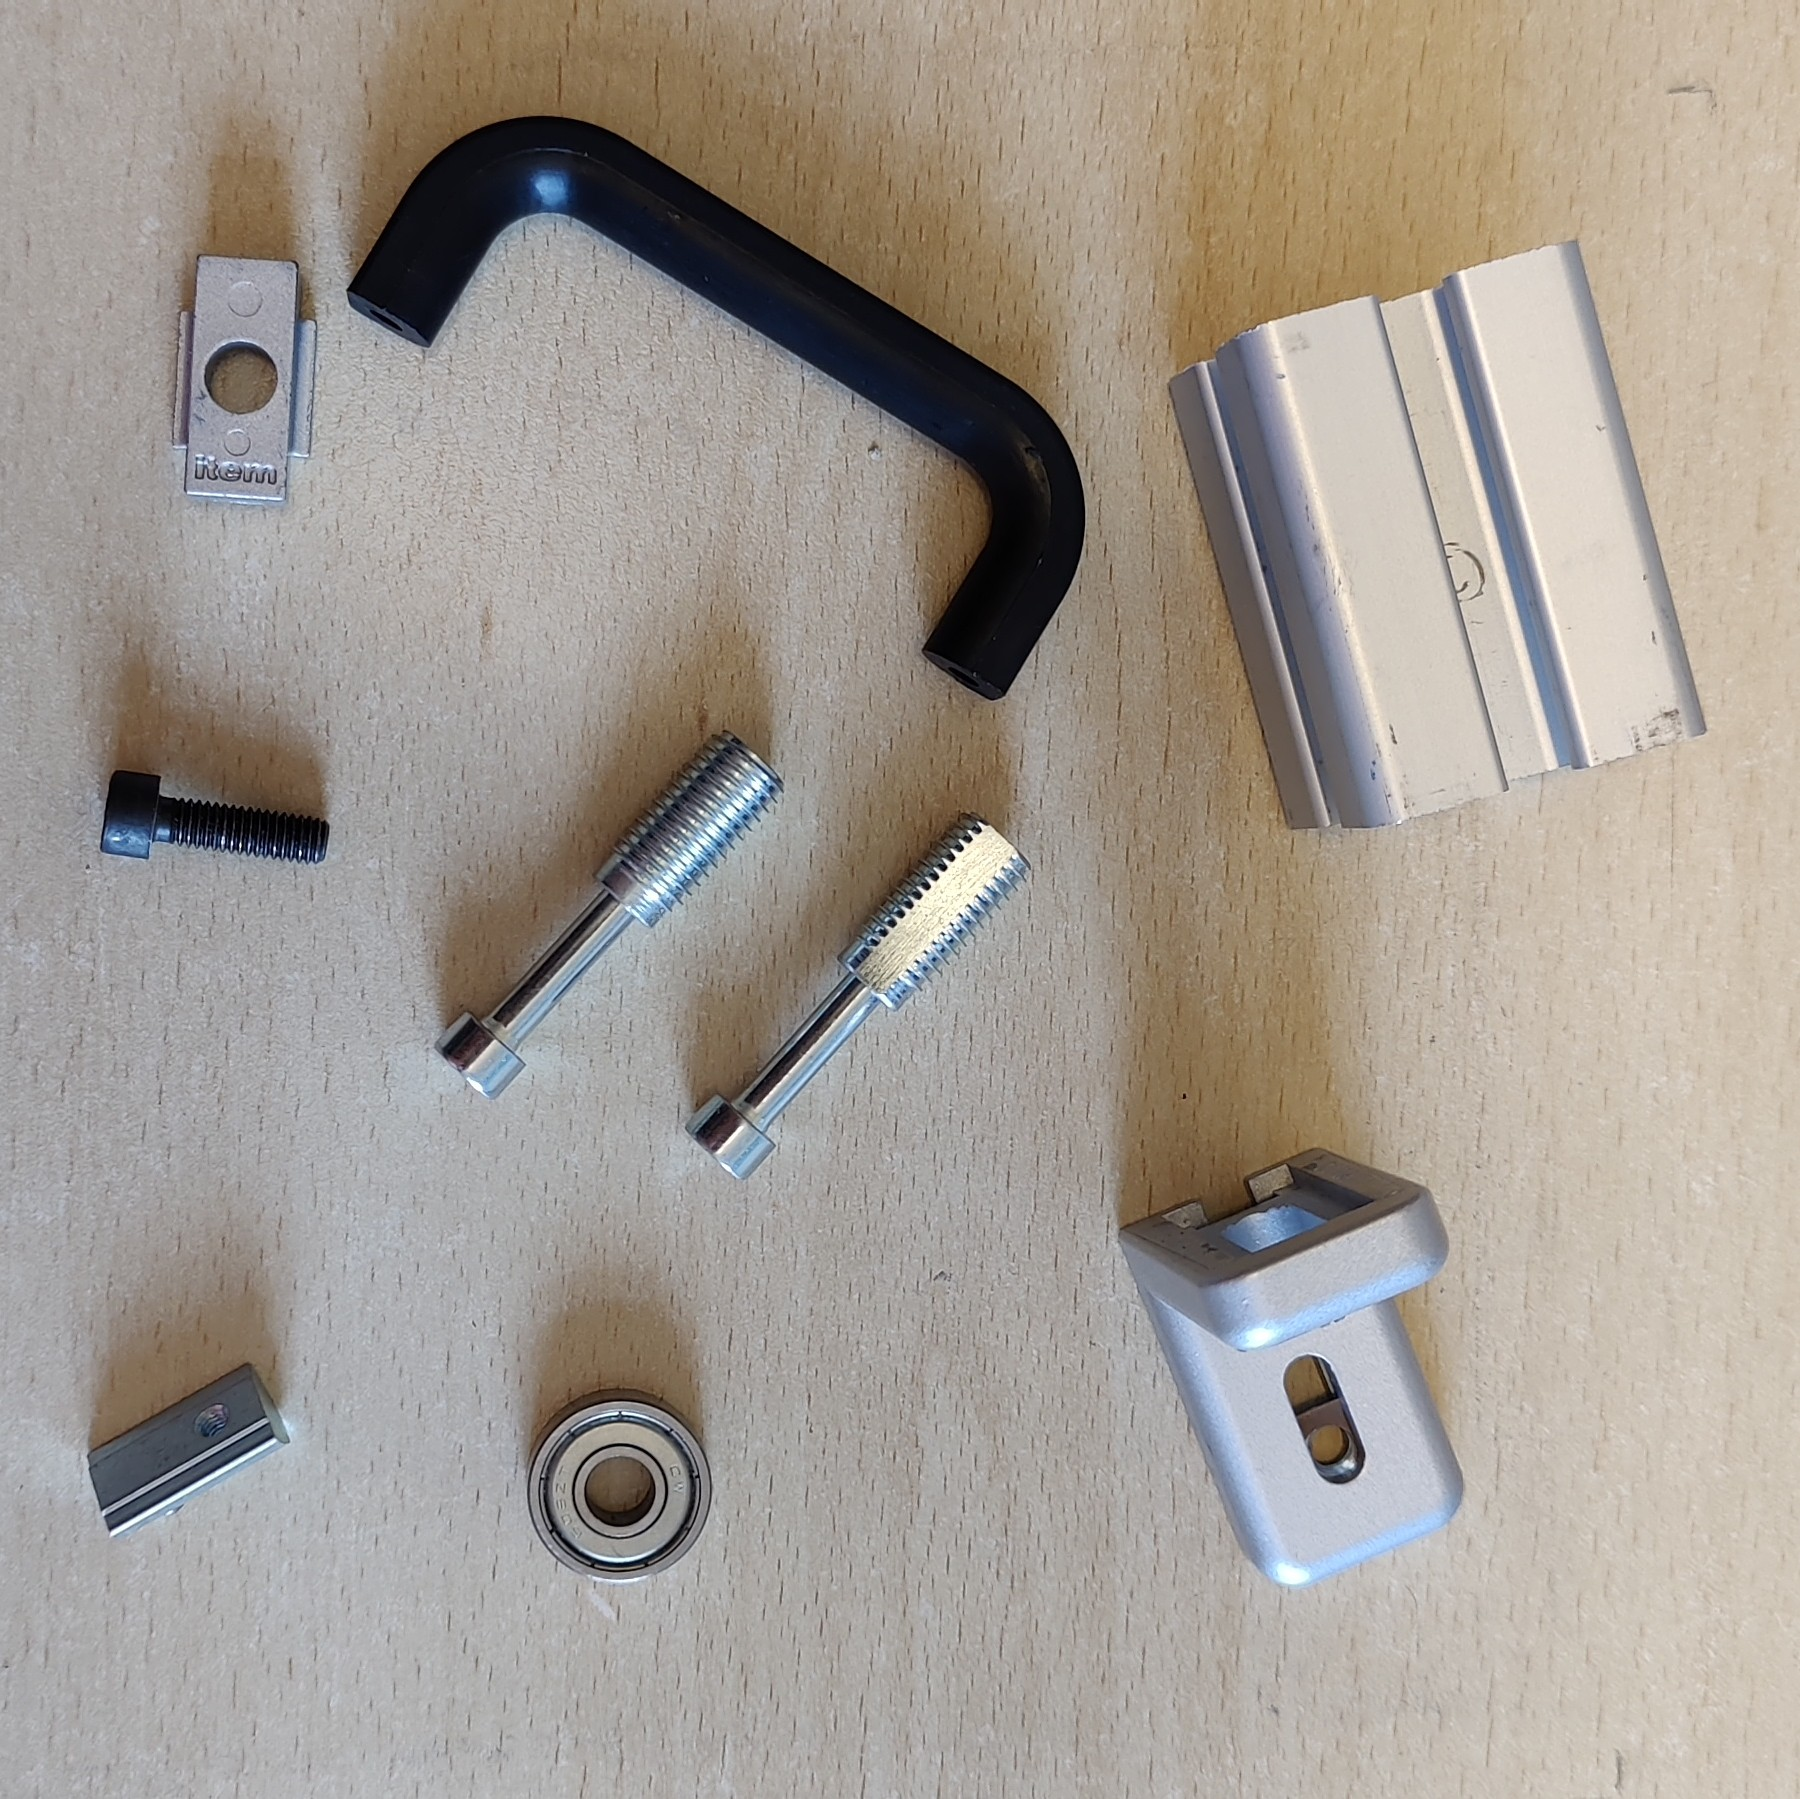Aluminium Extension: (1168, 237, 1711, 834)
Ball Bearing: (525, 1382, 713, 1585)
Multiwinkel: (1115, 1142, 1467, 1591)
Pull Handle: (343, 114, 1089, 703)
Shoulder Socket Head Cap Screw: (431, 725, 789, 1104), (682, 807, 1036, 1185)
Socket Head Cap Screw: (97, 768, 331, 868)
T Nut Square: (170, 250, 321, 512)
T Spring Nut: (86, 1361, 295, 1542)
